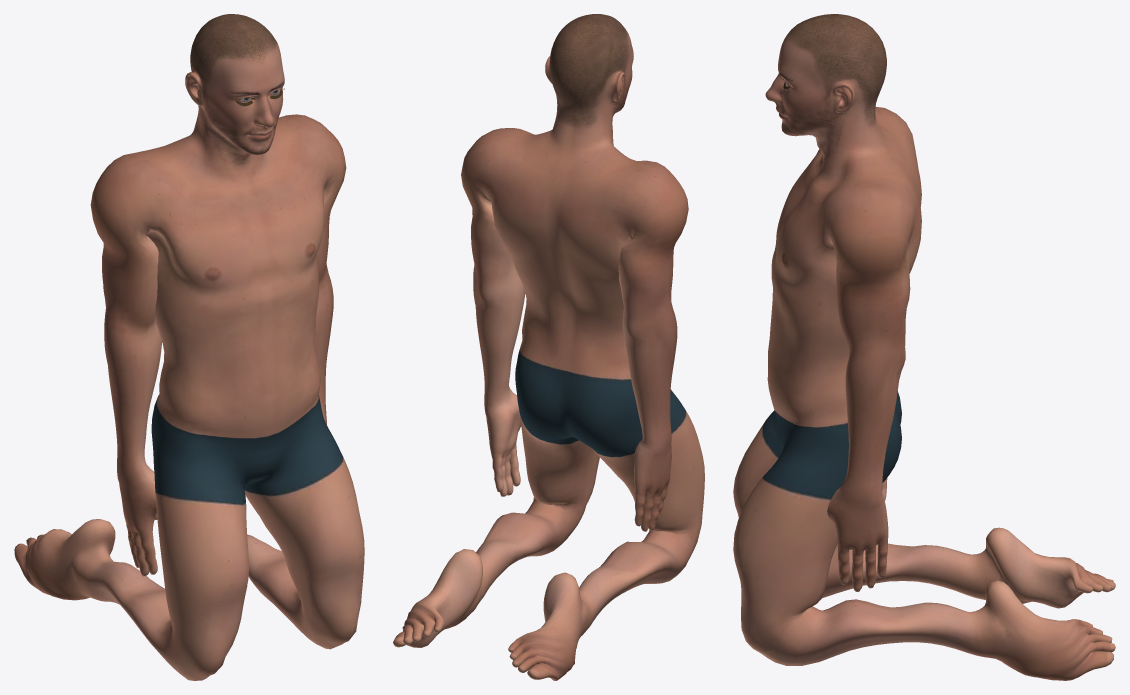
Rendered from neutral_kneeling.glb.
The picture shows the model from 3 angles, left to right: view 1: azimuth 30°, elevation 25°; view 2: azimuth 150°, elevation 25°; view 3: azimuth 270°, elevation 25°; orthographic projection. The views are drawn at different scales.
Parts seen in each view (by area): view 1: Body; view 2: Body; view 3: Body.
Boxes of the visible parts, x1=… form: Body: x1=14, y1=14, x2=364, y2=680; Body: x1=393, y1=14, x2=704, y2=680; Body: x1=733, y1=14, x2=1115, y2=680.
Bounding box in the file's own units: 0.5293 × 1.34 × 0.7394.
2 materials, 2 textured.
